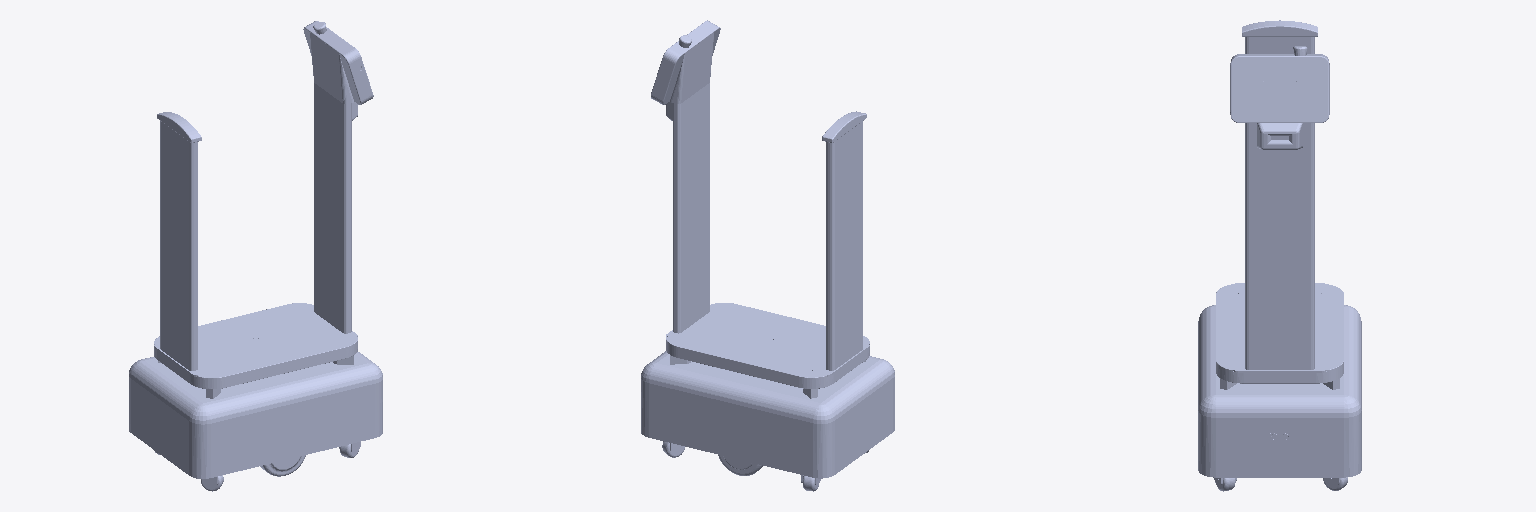
The robot description file, URDF, robot "mobile":
<?xml version="1.0"?>
<!-- This URDF was automatically created by SolidWorks to URDF Exporter! Originally created by [author] ([email redacted]) 
     Commit Version: 1.6.0-4-g7f85cfe  Build Version: 1.6.7995.38578
     For more information, please see http://wiki.ros.org/sw_urdf_exporter -->
<robot
  name="mobile" xmlns:xacro="http://www.ros.org/wiki/xacro">
  <link
    name="base_footprint">
    <inertial>
      <origin
        xyz="0.0014629 1.727E-07 0.20791"
        rpy="0 0 0" />
      <mass
        value="16.209" />
      <inertia
        ixx="0.53081"
        ixy="1.6778E-07"
        ixz="0.00067055"
        iyy="1.0663"
        iyz="2.744E-07"
        izz="1.3749" />
    </inertial>
    <visual>
      <origin
        xyz="0 0 0"
        rpy="0 0 0" />
      <geometry>
        <mesh
          filename="package://mobile/meshes/base_footprint.STL" />
      </geometry>
      <material
        name="">
        <color
          rgba="0.79216 0.81961 0.93333 1" />
      </material>
    </visual>
    <collision>
      <origin
        xyz="0 0 0"
        rpy="0 0 0" />
      <geometry>
        <mesh
          filename="package://mobile/meshes/base_footprint.STL" />
      </geometry>
    </collision>
  </link>
  <link
    name="base_link">
    <inertial>
      <origin
        xyz="0.028887 4.6114E-05 0.4015"
        rpy="0 0 0" />
      <mass
        value="38.511" />
      <inertia
        ixx="1.3307"
        ixy="5.4581E-05"
        ixz="-0.0022872"
        iyy="1.9545"
        iyz="-0.00017972"
        izz="1.759" />
    </inertial>
    <visual>
      <origin
        xyz="0 0 0"
        rpy="0 0 0" />
      <geometry>
        <mesh
          filename="package://mobile/meshes/base_link.STL" />
      </geometry>
      <material
        name="">
        <color
          rgba="0.79216 0.81961 0.93333 1" />
      </material>
    </visual>
    <collision>
      <origin
        xyz="0 0 0"
        rpy="0 0 0" />
      <geometry>
        <mesh
          filename="package://mobile/meshes/base_link.STL" />
      </geometry>
    </collision>
  </link>
  <joint
    name="base_link_jn"
    type="fixed">
    <origin
      xyz="0 0 0.105"
      rpy="0 0 0" />
    <parent
      link="base_footprint" />
    <child
      link="base_link" />
    <axis
      xyz="0 0 0" />
  </joint>
  <link
    name="left_wheel">
    <inertial>
      <origin
        xyz="2.2204E-16 -4.7668E-05 -5.5511E-17"
        rpy="0 0 0" />
      <mass
        value="1.2096" />
      <inertia
        ixx="0.0023434"
        ixy="6.1896E-36"
        ixz="1.6299E-36"
        iyy="0.0040809"
        iyz="1.2237E-17"
        izz="0.0023434" />
    </inertial>
    <visual>
      <origin
        xyz="0 0 0"
        rpy="0 0 0" />
      <geometry>
        <mesh
          filename="package://mobile/meshes/left_wheel.STL" />
      </geometry>
      <material
        name="">
        <color
          rgba="0.79216 0.81961 0.93333 1" />
      </material>
    </visual>
    <collision>
      <origin
        xyz="0 0 0"
        rpy="0 0 0" />
      <geometry>
        <mesh
          filename="package://mobile/meshes/left_wheel.STL" />
      </geometry>
    </collision>
  </link>
  <joint
    name="left_wheel_jn"
    type="continuous">
    <origin
      xyz="0 0.16297 -0.02"
      rpy="0 0 0" />
    <parent
      link="base_link" />
    <child
      link="left_wheel" />
    <axis
      xyz="0 1 0" />
    <dynamics
      friction="0.15" />
  </joint>
  <link
    name="right_wheel">
    <inertial>
      <origin
        xyz="0 -4.7668E-05 2.7756E-17"
        rpy="0 0 0" />
      <mass
        value="1.2096" />
      <inertia
        ixx="0.0023434"
        ixy="-3.2911E-20"
        ixz="-2.9892E-19"
        iyy="0.0040809"
        iyz="-6.0004E-18"
        izz="0.0023434" />
    </inertial>
    <visual>
      <origin
        xyz="0 0 0"
        rpy="0 0 0" />
      <geometry>
        <mesh
          filename="package://mobile/meshes/right_wheel.STL" />
      </geometry>
      <material
        name="">
        <color
          rgba="0.79216 0.81961 0.93333 1" />
      </material>
    </visual>
    <collision>
      <origin
        xyz="0 0 0"
        rpy="0 0 0" />
      <geometry>
        <mesh
          filename="package://mobile/meshes/right_wheel.STL" />
      </geometry>
    </collision>
  </link>
  <joint
    name="right_wheel_jn"
    type="continuous">
    <origin
      xyz="0 -0.16297 -0.02"
      rpy="0 0 0" />
    <parent
      link="base_link" />
    <child
      link="right_wheel" />
    <axis
      xyz="0 1 0" />
    <dynamics
      friction="0.15" />
  </joint>
  <link
    name="laser">
    <inertial>
      <origin
        xyz="-0.0010682 1.7798E-05 -0.018854"
        rpy="0 0 0" />
      <mass
        value="0.0094944" />
      <inertia
        ixx="3.8153E-06"
        ixy="3.0098E-11"
        ixz="-8.0845E-10"
        iyy="3.8141E-06"
        iyz="-2.0344E-11"
        izz="4.9345E-06" />
    </inertial>
    <visual>
      <origin
        xyz="0 0 0"
        rpy="0 0 0" />
      <geometry>
        <mesh
          filename="package://mobile/meshes/laser.STL" />
      </geometry>
      <material
        name="">
        <color
          rgba="0.082353 0.082353 0.082353 1" />
      </material>
    </visual>
    <collision>
      <origin
        xyz="0 0 0"
        rpy="0 0 0" />
      <geometry>
        <mesh
          filename="package://mobile/meshes/laser.STL" />
      </geometry>
    </collision>
  </link>
  <joint
    name="lidar"
    type="fixed">
    <origin
      xyz="0.00086811 -1.7374E-05 0.2438"
      rpy="0 0 0" />
    <parent
      link="base_link" />
    <child
      link="laser" />
    <axis
      xyz="0 0 0" />
  </joint>
  <link
    name="imu">
    <inertial>
      <origin
        xyz="-0.00014074 2.3807E-12 -0.013256"
        rpy="0 0 0" />
      <mass
        value="0.26083" />
      <inertia
        ixx="3.4611E-05"
        ixy="2.276E-14"
        ixz="-1.8559E-07"
        iyy="5.2869E-05"
        iyz="-2.3713E-15"
        izz="5.8033E-05" />
    </inertial>
    <visual>
      <origin
        xyz="0 0 0"
        rpy="0 0 0" />
      <geometry>
        <mesh
          filename="package://mobile/meshes/imu.STL" />
      </geometry>
      <material
        name="">
        <color
          rgba="0.79216 0.81961 0.93333 1" />
      </material>
    </visual>
    <collision>
      <origin
        xyz="0 0 0"
        rpy="0 0 0" />
      <geometry>
        <mesh
          filename="package://mobile/meshes/imu.STL" />
      </geometry>
    </collision>
  </link>
  <joint
    name="mpu"
    type="fixed">
    <origin
      xyz="0 0 0.0363"
      rpy="0 0 0" />
    <parent
      link="base_link" />
    <child
      link="imu" />
    <axis
      xyz="0 0 0" />
  </joint>
  <link
    name="truocphai_tren">
    <inertial>
      <origin
        xyz="2.2204E-16 -2.7756E-17 -0.022634"
        rpy="0 0 0" />
      <mass
        value="0.065037" />
      <inertia
        ixx="4.2933E-05"
        ixy="3.6181E-06"
        ixz="-3.5063E-21"
        iyy="3.7806E-05"
        iyz="-7.6354E-21"
        izz="3.2705E-05" />
    </inertial>
    <visual>
      <origin
        xyz="0 0 0"
        rpy="0 0 0" />
      <geometry>
        <mesh
          filename="package://mobile/meshes/truocphai_tren.STL" />
      </geometry>
      <material
        name="">
        <color
          rgba="0.79216 0.81961 0.93333 1" />
      </material>
    </visual>
    <collision>
      <origin
        xyz="0 0 0"
        rpy="0 0 0" />
      <geometry>
        <mesh
          filename="package://mobile/meshes/truocphai_tren.STL" />
      </geometry>
    </collision>
  </link>
  <joint
    name="truocphai_tren_jn"
    type="continuous">
    <origin
      xyz="0.25109 -0.1581 -0.01"
      rpy="0 0 0" />
    <parent
      link="base_link" />
    <child
      link="truocphai_tren" />
    <axis
      xyz="0 0 -1" />
    <limit
      lower="0"
      upper="0"
      effort="0"
      velocity="0" />
    <dynamics
      friction="0" damping="0.003" />
  </joint>
  <link
    name="truocphai_duoi">
    <inertial>
      <origin
        xyz="-1.1102E-16 0 0"
        rpy="0 0 0" />
      <mass
        value="0.14196" />
      <inertia
        ixx="6.492E-05"
        ixy="-1.0211E-05"
        ixz="3.1623E-20"
        iyy="7.939E-05"
        iyz="-6.4409E-20"
        izz="5.964E-05" />
    </inertial>
    <visual>
      <origin
        xyz="0 0 0"
        rpy="0 0 0" />
      <geometry>
        <mesh
          filename="package://mobile/meshes/truocphai_duoi.STL" />
      </geometry>
      <material
        name="">
        <color
          rgba="0.79216 0.81961 0.93333 1" />
      </material>
    </visual>
    <collision>
      <origin
        xyz="0 0 0"
        rpy="0 0 0" />
      <geometry>
        <mesh
          filename="package://mobile/meshes/truocphai_duoi.STL" />
      </geometry>
    </collision>
  </link>
  <joint
    name="truocphai_duoi_jn"
    type="continuous">
    <origin
      xyz="0 0 -0.06"
      rpy="0 0 0" />
    <parent
      link="truocphai_tren" />
    <child
      link="truocphai_duoi" />
    <axis
      xyz="-0.45928 0.88829 0" />
    <dynamics
      friction="0" />
  </joint>
  <link
    name="truoctrai_tren">
    <inertial>
      <origin
        xyz="-4.4409E-16 -7.7716E-16 -0.022634"
        rpy="0 0 0" />
      <mass
        value="0.065036" />
      <inertia
        ixx="3.8275E-05"
        ixy="3.9078E-06"
        ixz="-5.2238E-21"
        iyy="4.2464E-05"
        iyz="-2.6459E-20"
        izz="3.2706E-05" />
    </inertial>
    <visual>
      <origin
        xyz="0 0 0"
        rpy="0 0 0" />
      <geometry>
        <mesh
          filename="package://mobile/meshes/truoctrai_tren.STL" />
      </geometry>
      <material
        name="">
        <color
          rgba="0.79216 0.81961 0.93333 1" />
      </material>
    </visual>
    <collision>
      <origin
        xyz="0 0 0"
        rpy="0 0 0" />
      <geometry>
        <mesh
          filename="package://mobile/meshes/truoctrai_tren.STL" />
      </geometry>
    </collision>
  </link>
  <joint
    name="truoctrai_tren_jn"
    type="continuous">
    <origin
      xyz="0.25092 0.16015 -0.01"
      rpy="0 0 0" />
    <parent
      link="base_link" />
    <child
      link="truoctrai_tren" />
    <axis
      xyz="0 0 -1" />
    <limit
      lower="0"
      upper="0"
      effort="0"
      velocity="0" />
    <dynamics
      friction="0" damping="0.003" />
  </joint>
  <link
    name="truoctrai_duoi">
    <inertial>
      <origin
        xyz="-1.2212E-15 -1.1102E-16 -5.2736E-16"
        rpy="0 0 0" />
      <mass
        value="0.14196" />
      <inertia
        ixx="7.8066E-05"
        ixy="-1.103E-05"
        ixz="4.3755E-20"
        iyy="6.6243E-05"
        iyz="-2.6508E-20"
        izz="5.964E-05" />
    </inertial>
    <visual>
      <origin
        xyz="0 0 0"
        rpy="0 0 0" />
      <geometry>
        <mesh
          filename="package://mobile/meshes/truoctrai_duoi.STL" />
      </geometry>
      <material
        name="">
        <color
          rgba="0.79216 0.81961 0.93333 1" />
      </material>
    </visual>
    <collision>
      <origin
        xyz="0 0 0"
        rpy="0 0 0" />
      <geometry>
        <mesh
          filename="package://mobile/meshes/truoctrai_duoi.STL" />
      </geometry>
    </collision>
  </link>
  <joint
    name="truoctrai_duoi_jn"
    type="continuous">
    <origin
      xyz="0 0 -0.058"
      rpy="0 0 0" />
    <parent
      link="truoctrai_tren" />
    <child
      link="truoctrai_duoi" />
    <axis
      xyz="-0.85802 0.51362 0" />
    <dynamics
      friction="0" />
  </joint>
  <link
    name="traisau_tren">
    <inertial>
      <origin
        xyz="3.3307E-16 5.5511E-17 -0.022634"
        rpy="0 0 0" />
      <mass
        value="0.065037" />
      <inertia
        ixx="3.625E-05"
        ixy="-1.6396E-06"
        ixz="-9.4666E-21"
        iyy="4.449E-05"
        iyz="-3.2869E-20"
        izz="3.2705E-05" />
    </inertial>
    <visual>
      <origin
        xyz="0 0 0"
        rpy="0 0 0" />
      <geometry>
        <mesh
          filename="package://mobile/meshes/traisau_tren.STL" />
      </geometry>
      <material
        name="">
        <color
          rgba="0.79216 0.81961 0.93333 1" />
      </material>
    </visual>
    <collision>
      <origin
        xyz="0 0 0"
        rpy="0 0 0" />
      <geometry>
        <mesh
          filename="package://mobile/meshes/traisau_tren.STL" />
      </geometry>
    </collision>
  </link>
  <joint
    name="traisau_tren_jn"
    type="continuous">
    <origin
      xyz="-0.25098 0.15995 -0.01"
      rpy="0 0 0" />
    <parent
      link="base_link" />
    <child
      link="traisau_tren" />
    <axis
      xyz="0 0 -1" />
    <limit
      lower="0"
      upper="0"
      effort="0"
      velocity="0" />
    <dynamics
      friction="0" damping="0.003"/>
  </joint>
  <link
    name="traisau_duoi">
    <inertial>
      <origin
        xyz="4.996E-16 3.8858E-16 5.5511E-17"
        rpy="0 0 0" />
      <mass
        value="0.14196" />
      <inertia
        ixx="8.3782E-05"
        ixy="4.6277E-06"
        ixz="-1.3101E-20"
        iyy="6.0527E-05"
        iyz="5.4442E-21"
        izz="5.964E-05" />
    </inertial>
    <visual>
      <origin
        xyz="0 0 0"
        rpy="0 0 0" />
      <geometry>
        <mesh
          filename="package://mobile/meshes/traisau_duoi.STL" />
      </geometry>
      <material
        name="">
        <color
          rgba="0.79216 0.81961 0.93333 1" />
      </material>
    </visual>
    <collision>
      <origin
        xyz="0 0 0"
        rpy="0 0 0" />
      <geometry>
        <mesh
          filename="package://mobile/meshes/traisau_duoi.STL" />
      </geometry>
    </collision>
  </link>
  <joint
    name="traisau_duoi_jn"
    type="continuous">
    <origin
      xyz="0 0 -0.06"
      rpy="0 0 0" />
    <parent
      link="traisau_tren" />
    <child
      link="traisau_duoi" />
    <axis
      xyz="-0.98212 -0.18826 0" />
    <dynamics
      friction="0" />
  </joint>
  <link
    name="phaisau_tren">
    <inertial>
      <origin
        xyz="0 1.8041E-15 -0.022634"
        rpy="0 0 0" />
      <mass
        value="0.065037" />
      <inertia
        ixx="3.9992E-05"
        ixy="-4.4182E-06"
        ixz="2.8328E-21"
        iyy="4.0747E-05"
        iyz="-4.0305E-20"
        izz="3.2705E-05" />
    </inertial>
    <visual>
      <origin
        xyz="0 0 0"
        rpy="0 0 0" />
      <geometry>
        <mesh
          filename="package://mobile/meshes/phaisau_tren.STL" />
      </geometry>
      <material
        name="">
        <color
          rgba="0.79216 0.81961 0.93333 1" />
      </material>
    </visual>
    <collision>
      <origin
        xyz="0 0 0"
        rpy="0 0 0" />
      <geometry>
        <mesh
          filename="package://mobile/meshes/phaisau_tren.STL" />
      </geometry>
    </collision>
  </link>
  <joint
    name="phaisau_tren_jn"
    type="continuous">
    <origin
      xyz="-0.25115 -0.1584 -0.01"
      rpy="0 0 0" />
    <parent
      link="base_link" />
    <child
      link="phaisau_tren" />
    <axis
      xyz="0 0 -1" />
    <limit
      lower="0"
      upper="0"
      effort="0"
      velocity="0" />
    <dynamics
      friction="0" damping="0.003"/>
  </joint>
  <link
    name="phaisau_duoi">
    <inertial>
      <origin
        xyz="3.3307E-16 1.1935E-15 -6.1062E-16"
        rpy="0 0 0" />
      <mass
        value="0.14196" />
      <inertia
        ixx="7.3221E-05"
        ixy="1.2469E-05"
        ixz="-5.6426E-20"
        iyy="7.1089E-05"
        iyz="-5.6934E-20"
        izz="5.964E-05" />
    </inertial>
    <visual>
      <origin
        xyz="0 0 0"
        rpy="0 0 0" />
      <geometry>
        <mesh
          filename="package://mobile/meshes/phaisau_duoi.STL" />
      </geometry>
      <material
        name="">
        <color
          rgba="0.79216 0.81961 0.93333 1" />
      </material>
    </visual>
    <collision>
      <origin
        xyz="0 0 0"
        rpy="0 0 0" />
      <geometry>
        <mesh
          filename="package://mobile/meshes/phaisau_duoi.STL" />
      </geometry>
    </collision>
  </link>
  <joint
    name="phaisau_duoi_jn"
    type="continuous">
    <origin
      xyz="0 0 -0.058"
      rpy="0 0 0" />
    <parent
      link="phaisau_tren" />
    <child
      link="phaisau_duoi" />
    <axis
      xyz="0.73661 0.67632 0" />
    <dynamics
      friction="0" />
  </joint>
  
   <!-- Gazebo plugin cho LiDAR -->
  <gazebo reference="laser">
    <sensor type="ray" name="laser_sensor">
      <always_on>true</always_on>
      <visualize>true</visualize>
      <update_rate>50</update_rate>
      <ray>
        <scan>
          <horizontal>
            <samples>720</samples>
            <resolution>1</resolution>
            <min_angle>-3.14</min_angle>
            <max_angle>3.14</max_angle>
          </horizontal>
        </scan>
        <range>
          <min>0.15</min>
          <max>15.0</max>
          <resolution>0.01</resolution>
          <noise>
            <type>gaussian</type>
            <mean>0.0</mean>
            <stddev>0.01</stddev>
          </noise>
        </range>
      </ray>

      <plugin name="gazebo_ros_laser" filename="libgazebo_ros_ray_sensor.so">
        <ros>
          <namespace>/</namespace>
          <remapping>scan:=/scan</remapping>
        </ros>
        <output_type>sensor_msgs/LaserScan</output_type>
        <frame_name>laser</frame_name>
      </plugin>
    </sensor>
  </gazebo>

  <!-- Gazebo plugin cho IMU -->
  <gazebo reference="imu">
    <sensor type="imu" name="imu_sensor">
      <always_on>true</always_on>
      <update_rate>50</update_rate>
      <imu>
        <angular_velocity>
          <x>
            <noise type="gaussian">
              <mean>0.0</mean>
              <stddev>0.0002</stddev>
            </noise>
          </x>
          <y>
            <noise type="gaussian">
              <mean>0.0</mean>
              <stddev>0.0002</stddev>
            </noise>
          </y>
          <z>
            <noise type="gaussian">
              <mean>0.0</mean>
              <stddev>0.0002</stddev>
            </noise>
          </z>
        </angular_velocity>
        <linear_acceleration>
          <x>
            <noise type="gaussian">
              <mean>0.0</mean>
              <stddev>0.0003</stddev>
            </noise>
          </x>
          <y>
            <noise type="gaussian">
              <mean>0.0</mean>
              <stddev>0.0003</stddev>
            </noise>
          </y>
          <z>
            <noise type="gaussian">
              <mean>0.0</mean>
              <stddev>0.0003</stddev>
            </noise>
          </z>
        </linear_acceleration>
      </imu>

      <!-- Đây là phần thiếu -->
      <plugin name="gazebo_ros_imu" filename="libgazebo_ros_imu_sensor.so">
        <ros>
          <namespace>/</namespace>
          <remapping>imu:=/imu</remapping>
        </ros>
        <frame_name>imu</frame_name>
      </plugin>
    </sensor>
  </gazebo>

  <!-- Gazebo plugin cho bộ điều khiển diff_drive -->
  <gazebo>
    <plugin name="diff_drive" filename="libgazebo_ros_diff_drive.so">
      <ros>
        <namespace>/</namespace>
        <remapping>cmd_vel:=/cmd_vel</remapping>
        <remapping>odom:=/odom</remapping>
        <parameter name="use_sim_time" type="bool" value="true"/>
      </ros>

      <update_rate>50</update_rate>
      <left_joint>left_wheel_jn</left_joint>
      <right_joint>right_wheel_jn</right_joint>

      <wheel_separation>0.326</wheel_separation> <!-- Khoảng cách 2 bánh -->
      <wheel_diameter>0.17</wheel_diameter>     <!-- Đường kính bánh -->
      <wheel_acceleration>1.0</wheel_acceleration>
      <wheel_torque>5.0</wheel_torque>

      <publish_odom>true</publish_odom>
      <publish_odom_tf>false</publish_odom_tf>
      <publish_wheel_tf>false</publish_wheel_tf>
    </plugin>
  </gazebo>

  <!-- <gazebo>
    <plugin name="joint_state_publisher" filename="libgazebo_ros_joint_state_publisher.so">
      <ros>
        <namespace>/</namespace>
        <remapping>joint_states:=/joint_states</remapping>
      </ros>
      <update_rate>50</update_rate>

      <joint_name>base_link_jn</joint_name>
      <joint_name>left_wheel_jn</joint_name>
      <joint_name>right_wheel_jn</joint_name>
      <joint_name>lidar</joint_name>
      <joint_name>mpu</joint_name>
      <joint_name>truocphai_tren_jn</joint_name>
      <joint_name>truocphai_duoi_jn</joint_name>
      <joint_name>truoctrai_tren_jn</joint_name>
      <joint_name>truoctrai_duoi_jn</joint_name>
      <joint_name>traisau_tren_jn</joint_name>
      <joint_name>traisau_duoi_jn</joint_name>
      <joint_name>phaisau_tren_jn</joint_name>
      <joint_name>phaisau_duoi_jn</joint_name>
    </plugin>
  </gazebo> -->

  
</robot>

--- What the picture shows (computed from the rendered views, not written in the file) ---
The picture shows the robot from 3 angles, left to right: view 1: azimuth 30°, elevation 25°; view 2: azimuth 150°, elevation 25°; view 3: azimuth 270°, elevation 25°; orthographic projection.
Robot: mobile — 14 links, 13 joints (10 continuous, 3 fixed); root link base_footprint; default pose: all joints at 0.
Visible links, largest first — view 1: base_link, base_footprint; view 2: base_link, base_footprint; view 3: base_link, base_footprint.
Link boxes in pixels (x1=…): base_link: x1=129, y1=21, x2=374, y2=478; base_footprint: x1=142, y1=352, x2=382, y2=472; base_link: x1=649, y1=20, x2=894, y2=478; base_footprint: x1=641, y1=351, x2=879, y2=477; base_link: x1=1198, y1=20, x2=1361, y2=436; base_footprint: x1=1198, y1=308, x2=1361, y2=477.
Bounding box of the posed robot: 0.7029 × 0.47 × 1.42 m (x, y, z).
Meshes: 14 distinct files referenced, 14 mesh visuals loaded (14 binary STL).
